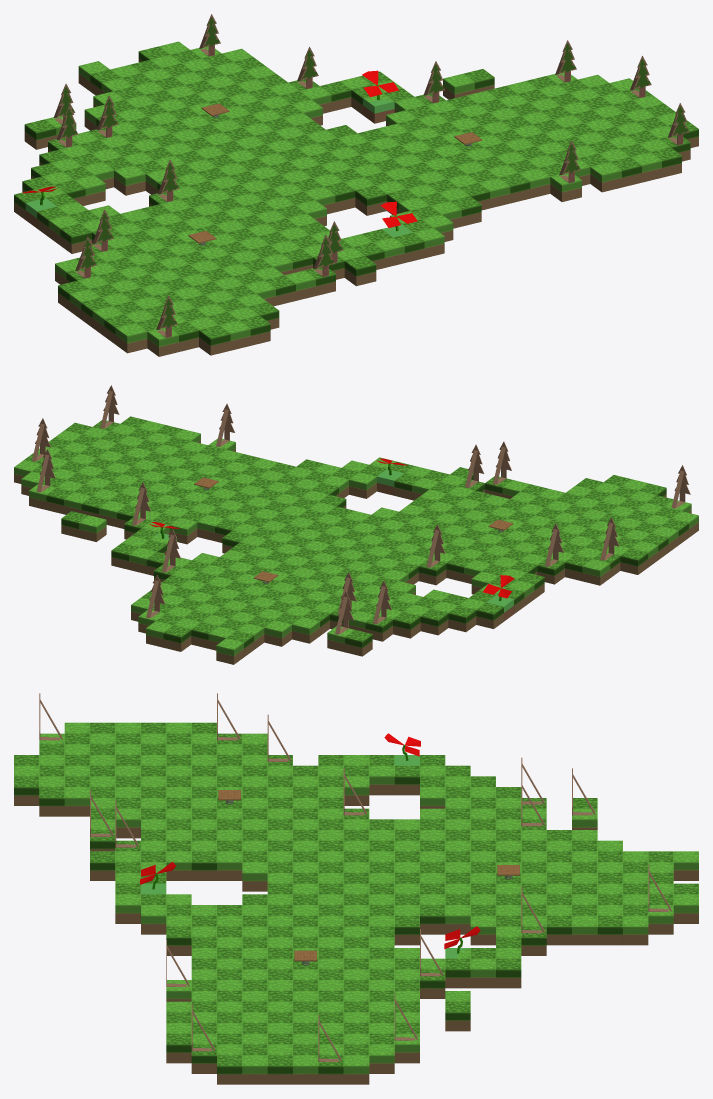
File: Level 4.fbx
3 renders of one model, top to bottom at view 1: azimuth 30°, elevation 25°; view 2: azimuth 150°, elevation 25°; view 3: azimuth 270°, elevation 25°, orthographic. The views are drawn at different scales.
Visible parts, largest first — view 1: SP_Flower1, Level4.204, Level4.317, Level4.014, Level4.086, Level4.265, Level4.214, Level4.006, Level4.009, Level4.173, Level4.322, SP_Flower3 (+20 smaller); view 2: SP_Flower2, Level4.169, Level4.424, Level4, Level4.060, Level4.427, Level4.006, Level4.079, Level4.139, Level4.161, Level4.252, Level4.321 (+25 smaller); view 3: Level4.349, Level4.066, Level4.087, Level4.132, Level4.249, Level4.361, Level4.027, Level4.029, Level4.133, Level4.134, Level4.197, Level4.359 (+32 smaller).
Boxes of the visible parts, bbox=[...] form: SP_Flower1: bbox=[362, 70, 398, 123]; Level4.204: bbox=[344, 256, 376, 286]; Level4.317: bbox=[115, 323, 147, 353]; Level4.014: bbox=[199, 325, 230, 355]; Level4.086: bbox=[114, 165, 145, 195]; Level4.265: bbox=[590, 162, 621, 192]; Level4.214: bbox=[355, 185, 386, 215]; Level4.006: bbox=[24, 119, 56, 149]; Level4.009: bbox=[60, 223, 91, 253]; Level4.173: bbox=[147, 328, 178, 356]; Level4.322: bbox=[550, 173, 581, 201]; SP_Flower3: bbox=[380, 201, 417, 237]; SP_Flower2: bbox=[483, 575, 514, 621]; Level4.169: bbox=[582, 559, 610, 585]; Level4.424: bbox=[448, 605, 476, 632]; Level4: bbox=[163, 625, 191, 651]; Level4.060: bbox=[420, 608, 448, 635]; Level4.427: bbox=[620, 548, 648, 574]; Level4.006: bbox=[345, 630, 372, 656]; Level4.079: bbox=[216, 638, 243, 664]; Level4.139: bbox=[393, 612, 420, 638]; Level4.161: bbox=[79, 515, 106, 541]; Level4.252: bbox=[292, 617, 319, 643]; Level4.321: bbox=[349, 472, 376, 498]; Level4.349: bbox=[343, 1055, 369, 1084]; Level4.066: bbox=[166, 1033, 191, 1063]; Level4.087: bbox=[369, 765, 394, 795]; Level4.132: bbox=[445, 1001, 470, 1031]; Level4.249: bbox=[572, 915, 597, 945]; Level4.361: bbox=[445, 958, 470, 988]; Level4.027: bbox=[623, 915, 648, 945]; Level4.029: bbox=[470, 958, 495, 988]; Level4.133: bbox=[546, 915, 571, 945]; Level4.134: bbox=[496, 958, 521, 988]; Level4.197: bbox=[394, 765, 419, 795]; Level4.359: bbox=[597, 915, 622, 945].
Bounding box in the file's own units: 6400 × 561 × 5400.
